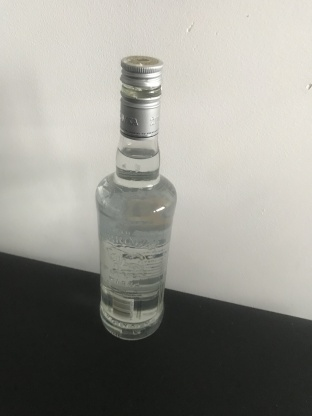nakretka: (118, 53, 164, 141)
